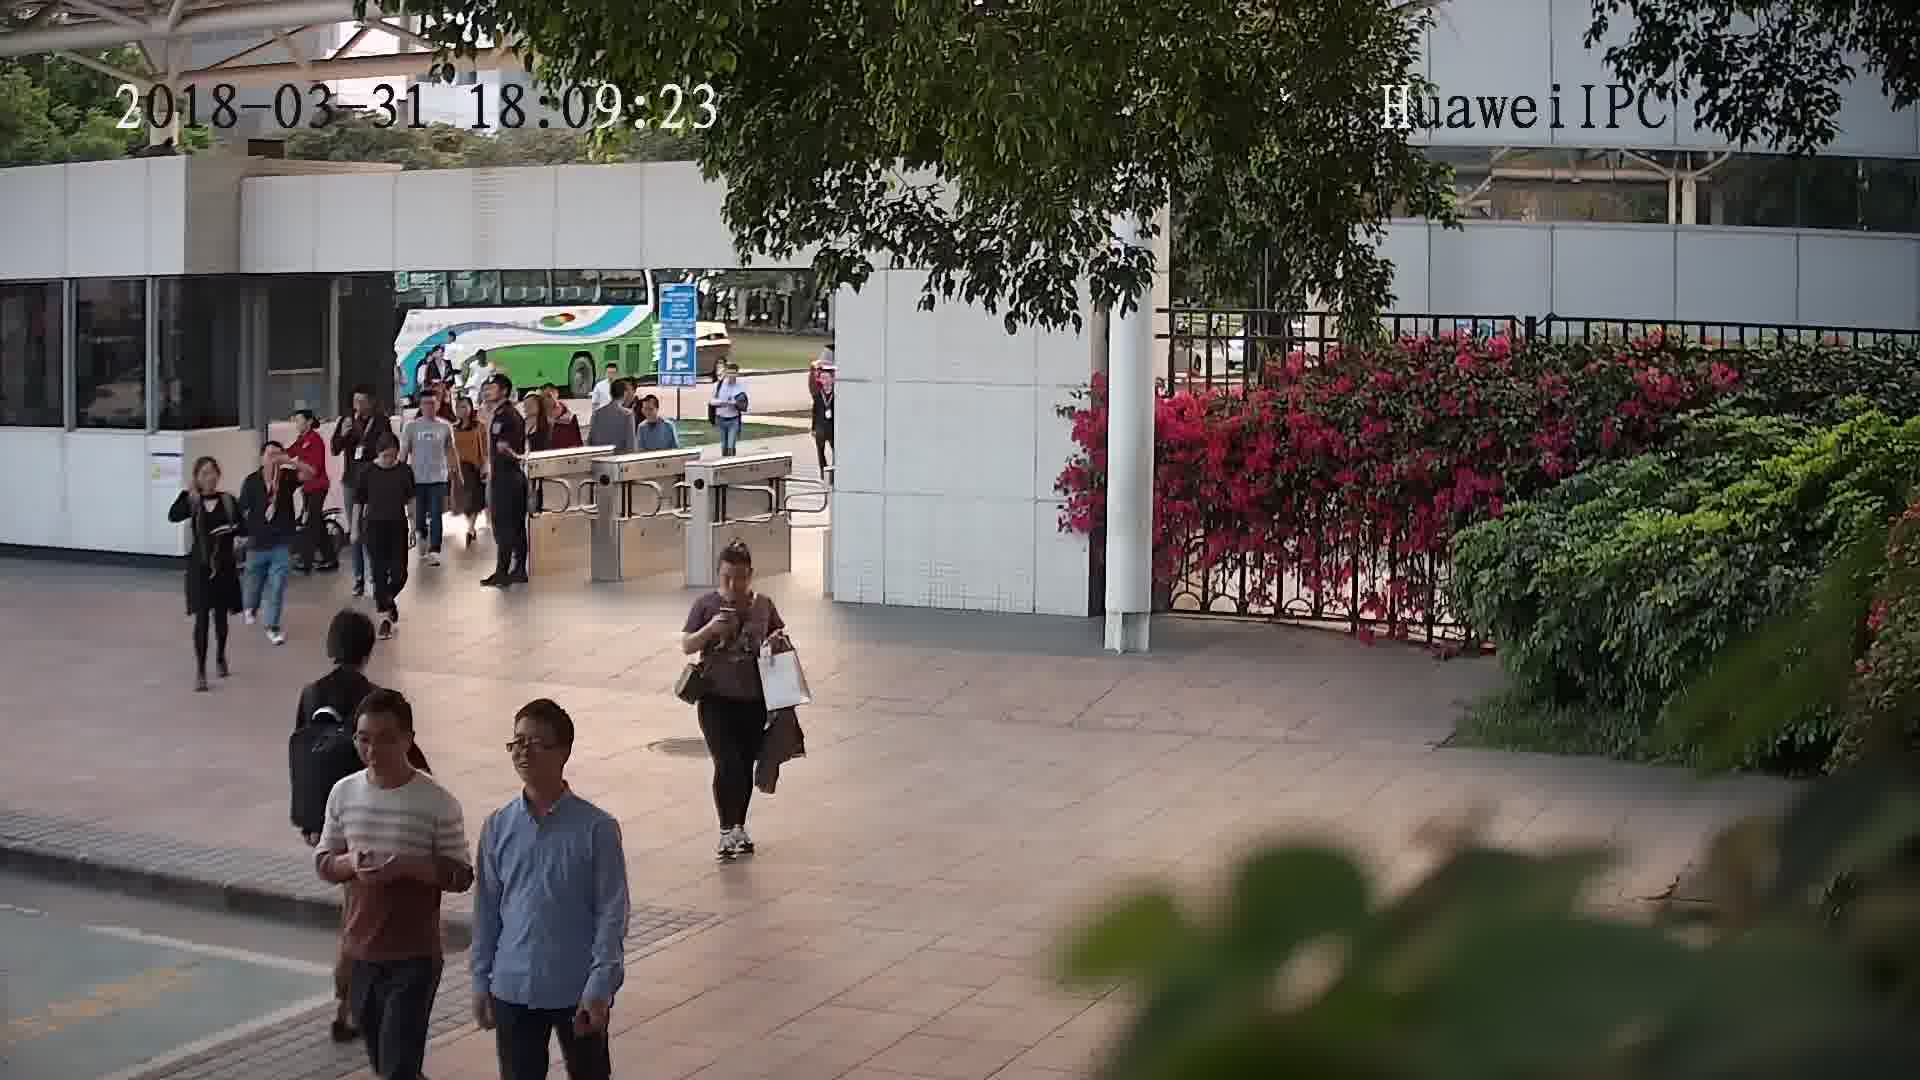face: (502, 722, 564, 784), (354, 717, 410, 773), (712, 557, 755, 600)
person: (482, 699, 618, 842), (332, 692, 461, 820), (303, 608, 392, 707), (692, 538, 778, 620), (176, 451, 235, 513), (239, 437, 295, 493), (356, 432, 411, 487), (334, 382, 389, 435), (398, 387, 450, 435), (281, 400, 325, 451), (479, 372, 518, 425), (446, 388, 486, 435), (592, 378, 633, 422), (631, 391, 673, 433), (539, 384, 580, 425), (710, 362, 750, 401), (520, 392, 554, 433), (425, 342, 459, 378), (808, 365, 837, 409), (593, 362, 623, 395)
